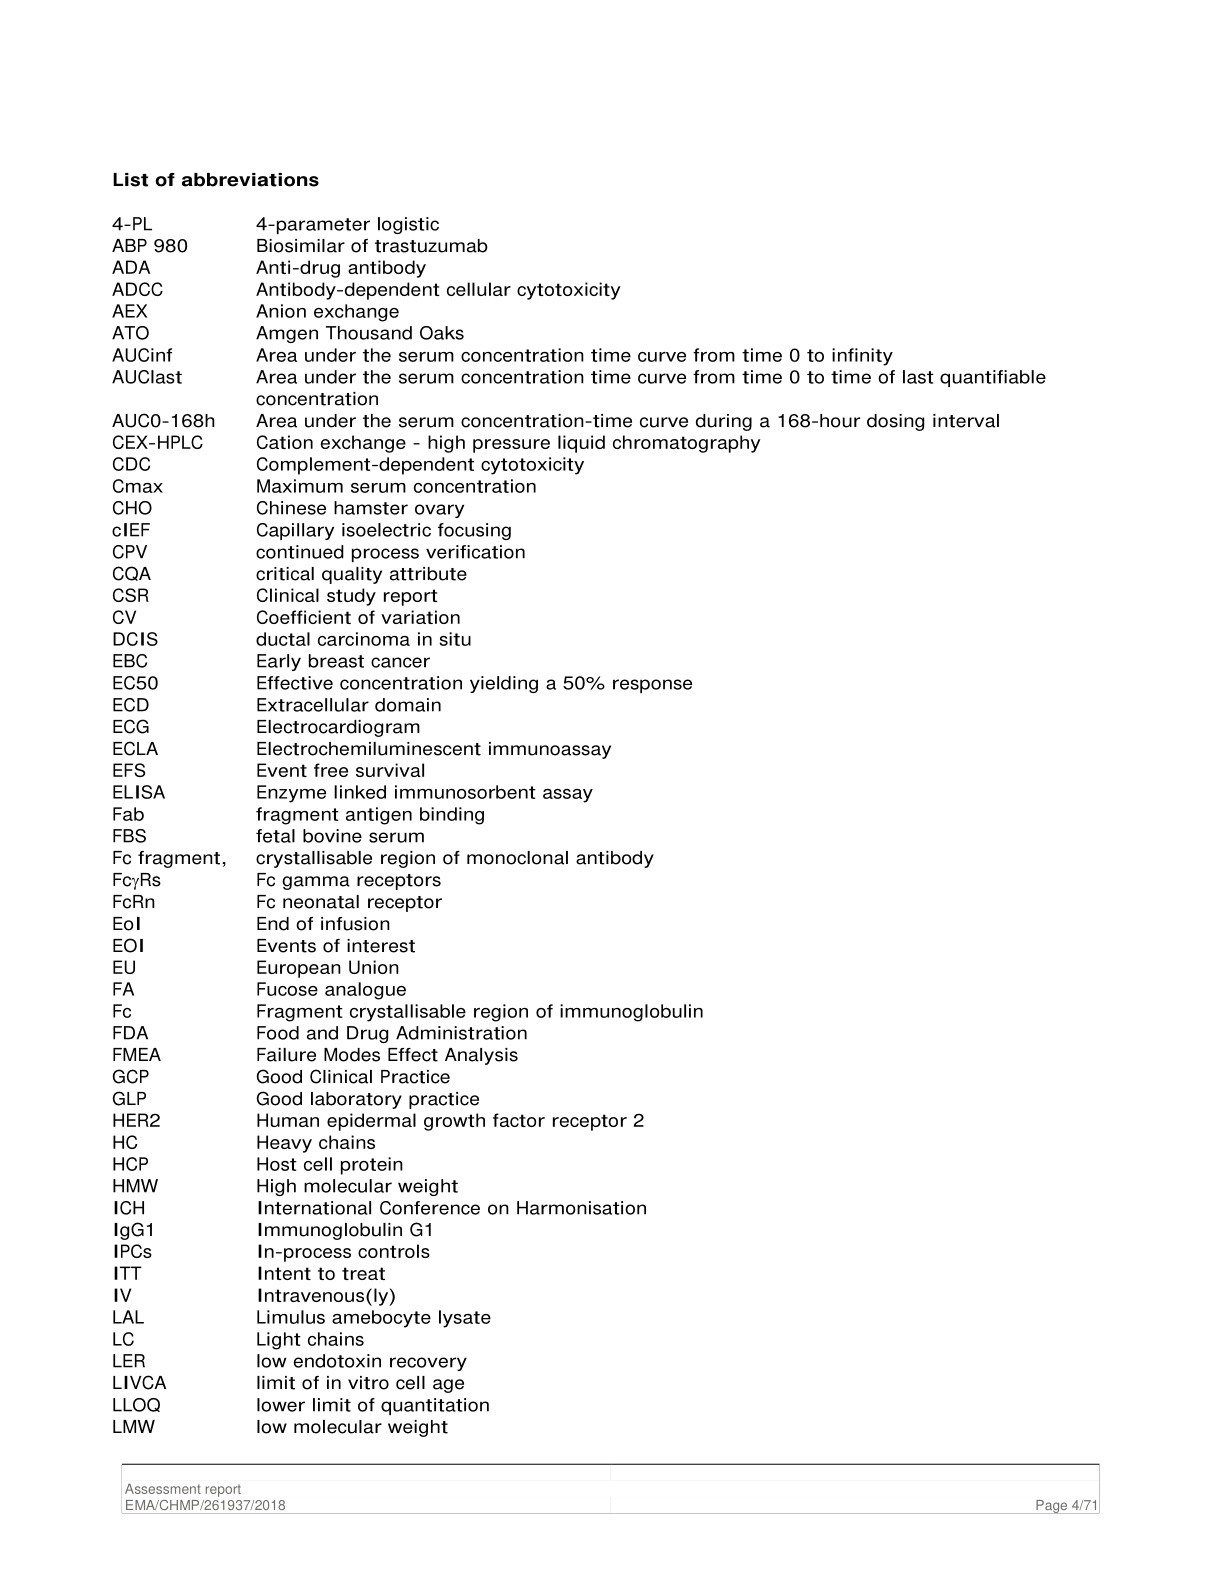nolines: (111, 211, 1048, 1440)
